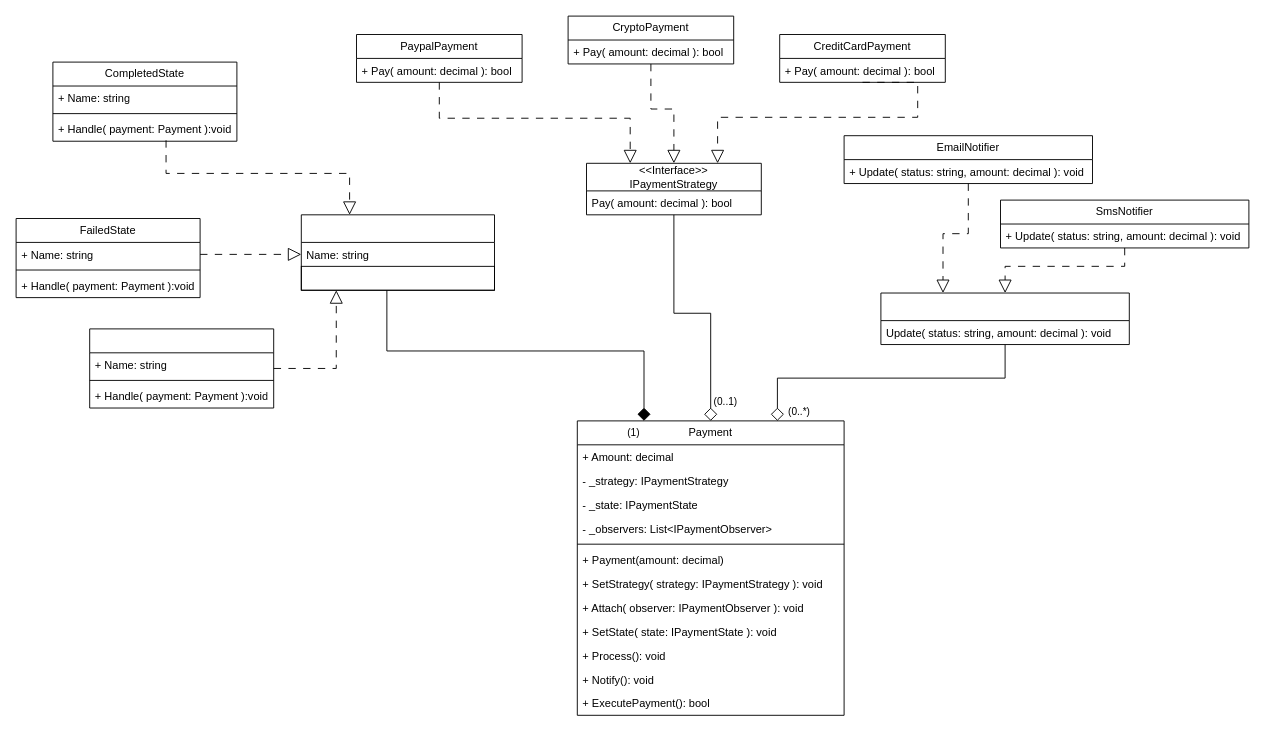
The diagram is 1265 pixels wide and 734 high, and some of its shapes have lost their labels. The shapes that lost their labels are listed below. From the top down, each one's box as (x1, y1, x2, y2) in pixels, then its label:
(300, 214, 494, 290): <<Interface>> IPaymentState
(300, 265, 494, 290): Handle( payment: Payment ): void
(880, 292, 1129, 345): <<Interface>> IPaymentObserver
(89, 328, 274, 408): PendingState
